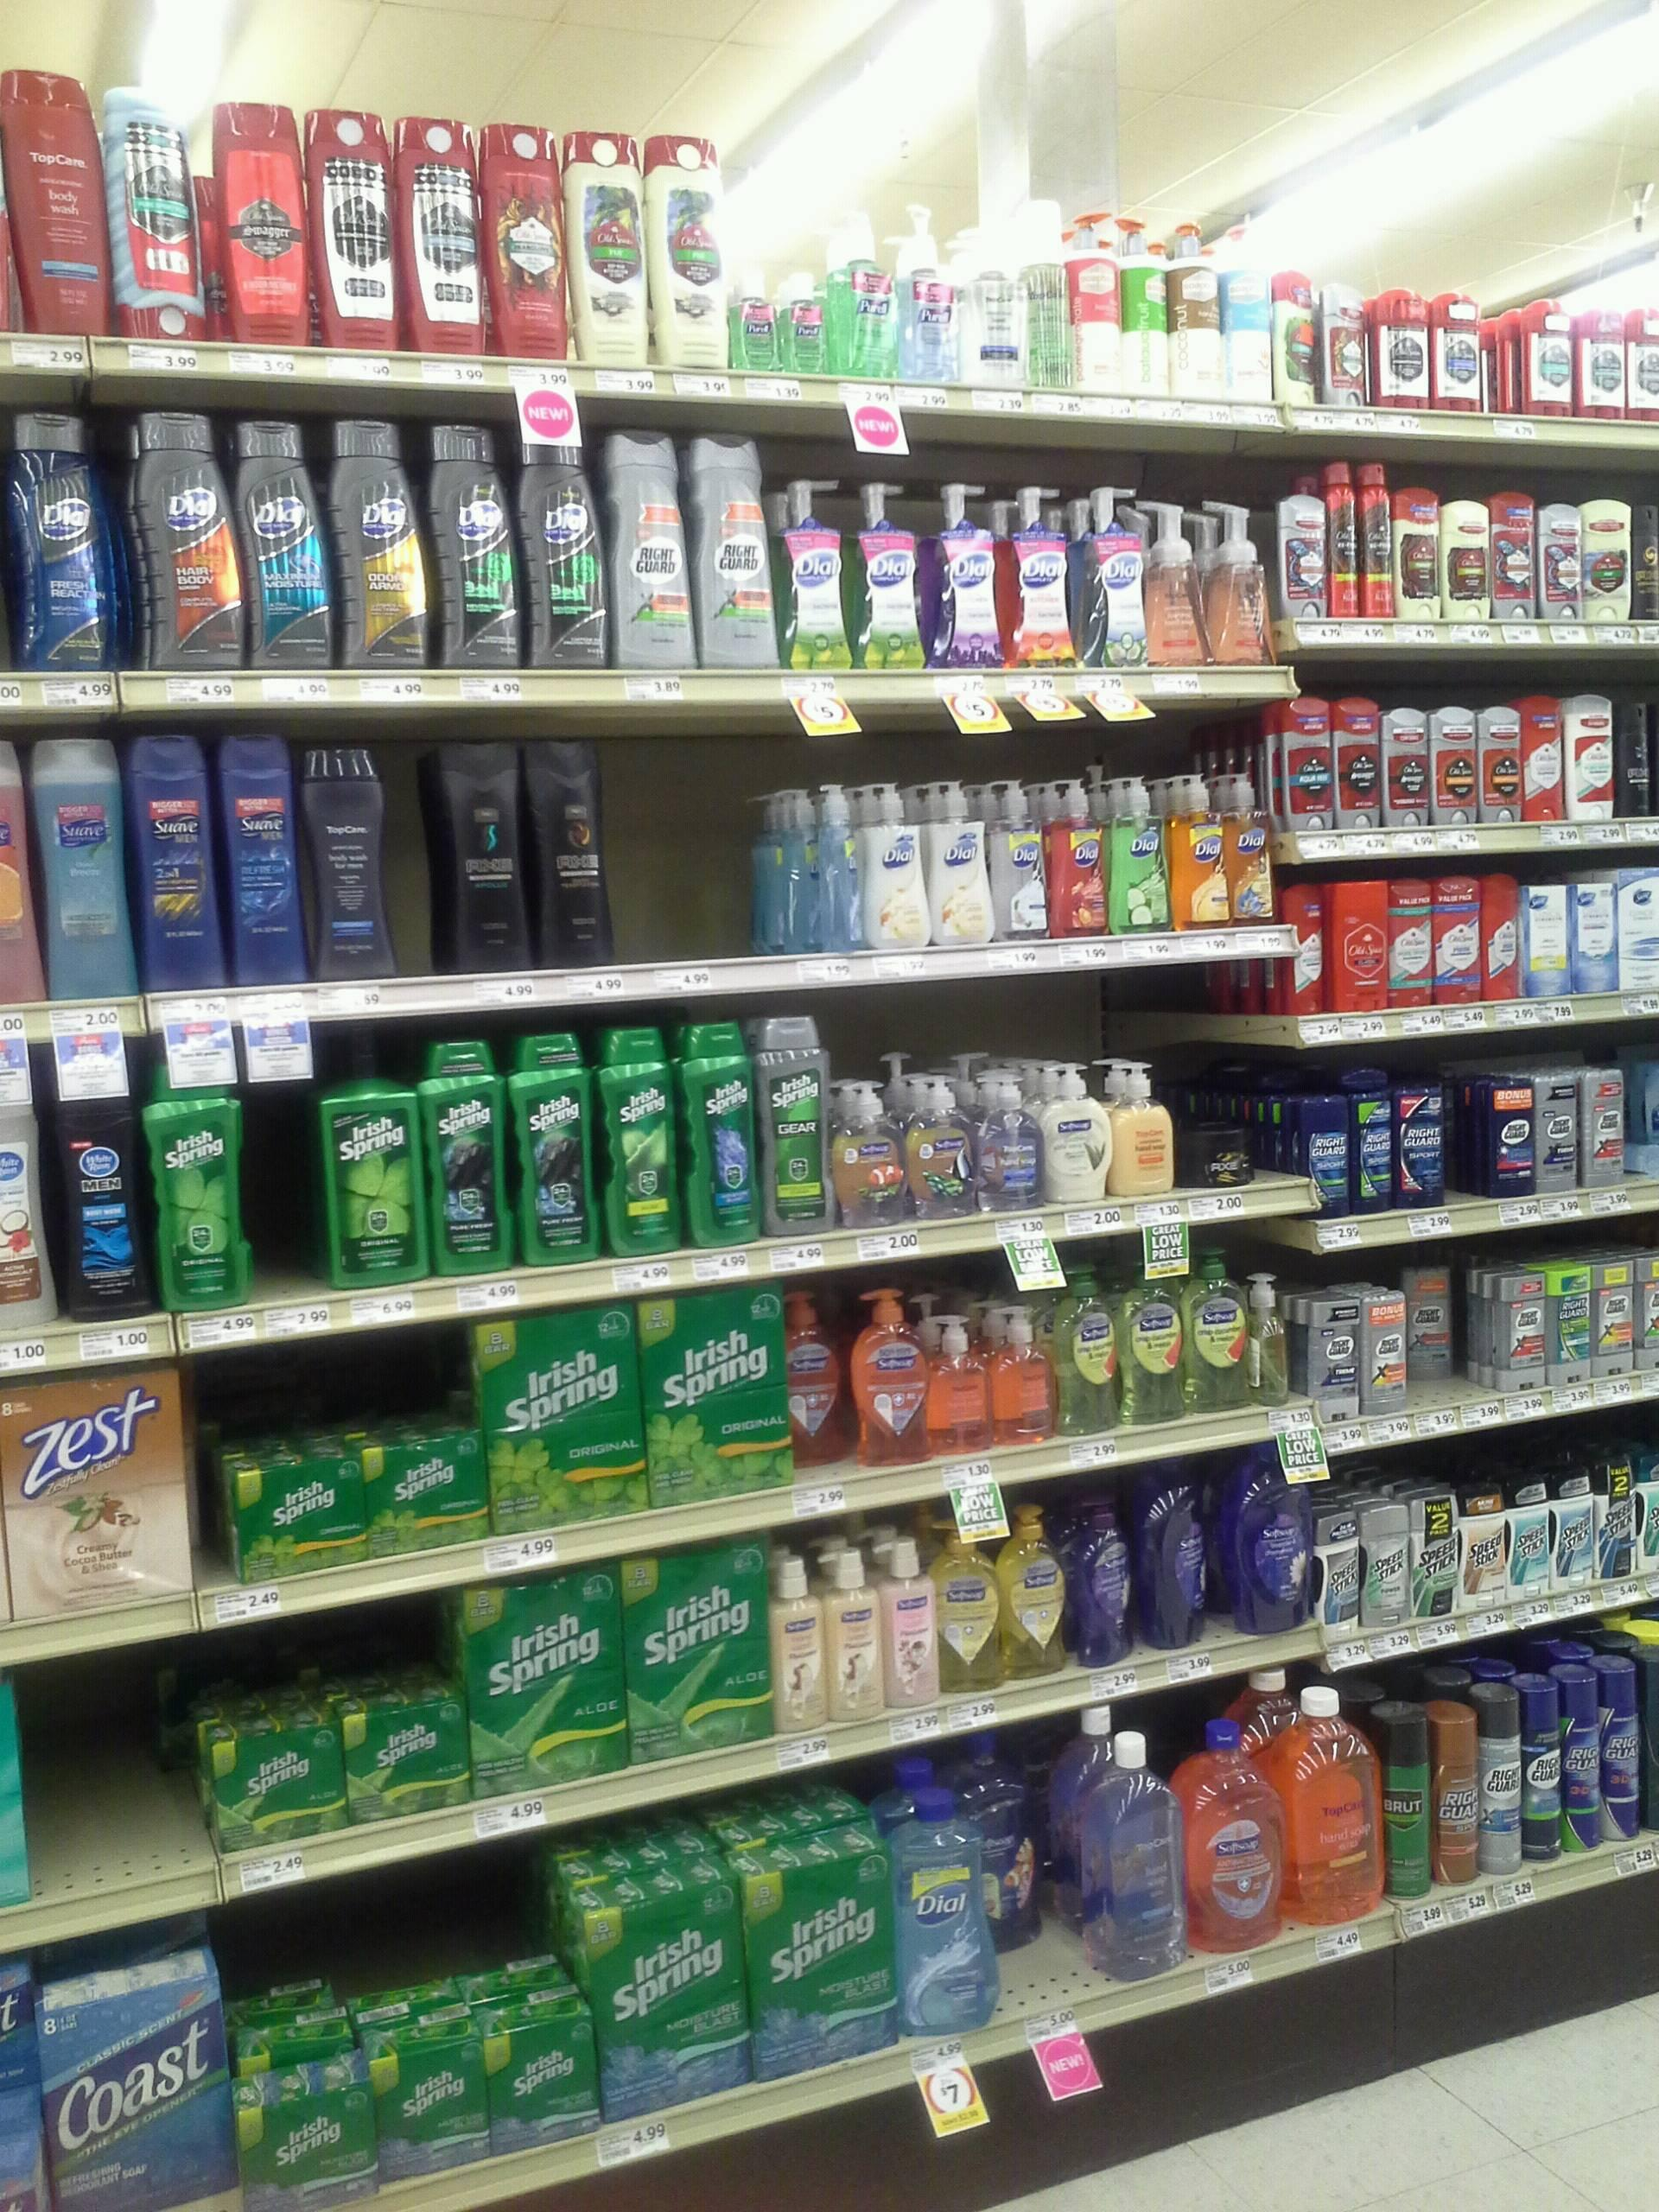empty: (606, 740, 769, 958), (33, 1670, 174, 1876), (979, 1797, 1105, 2027), (277, 1874, 551, 1972), (193, 1346, 467, 1442)
